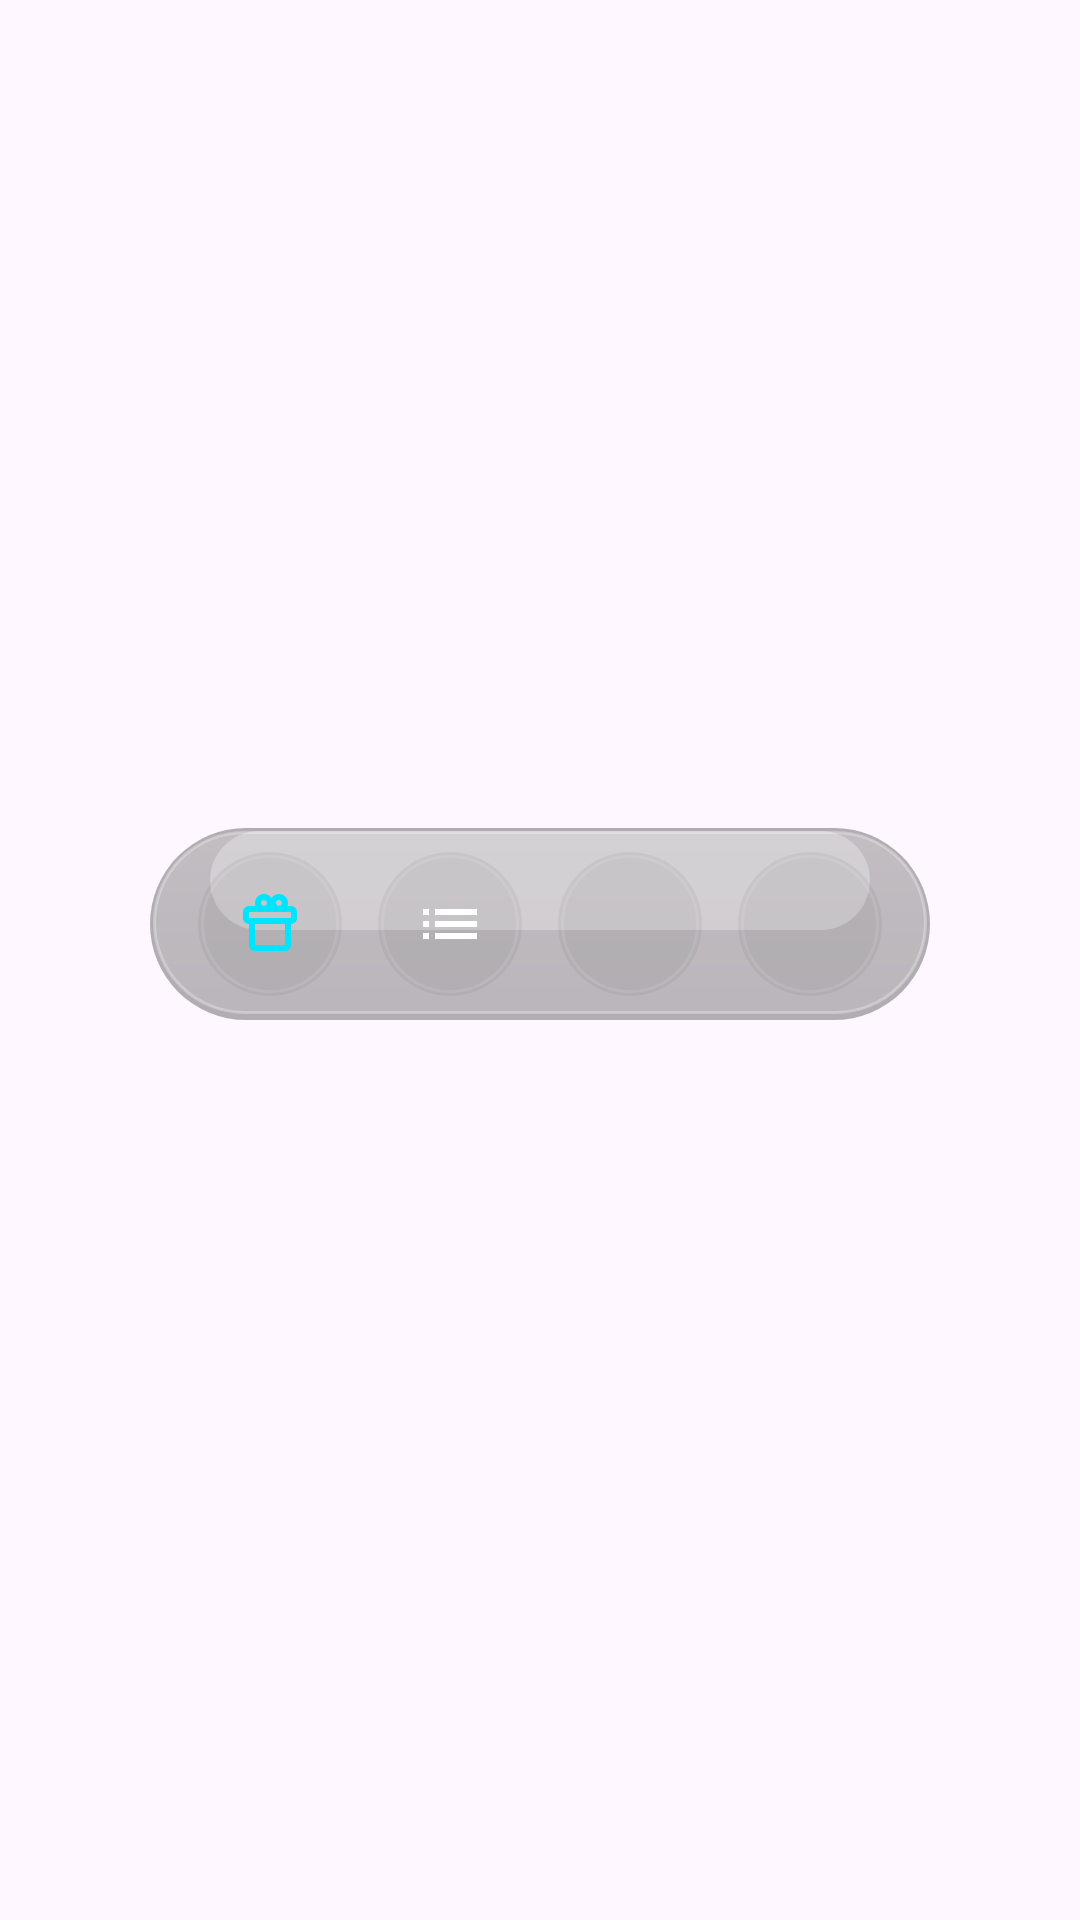

Named icons in this screenshot (1080*1920) and their centers, [x,y]:
gift: [270,919]
menu: [450,924]
